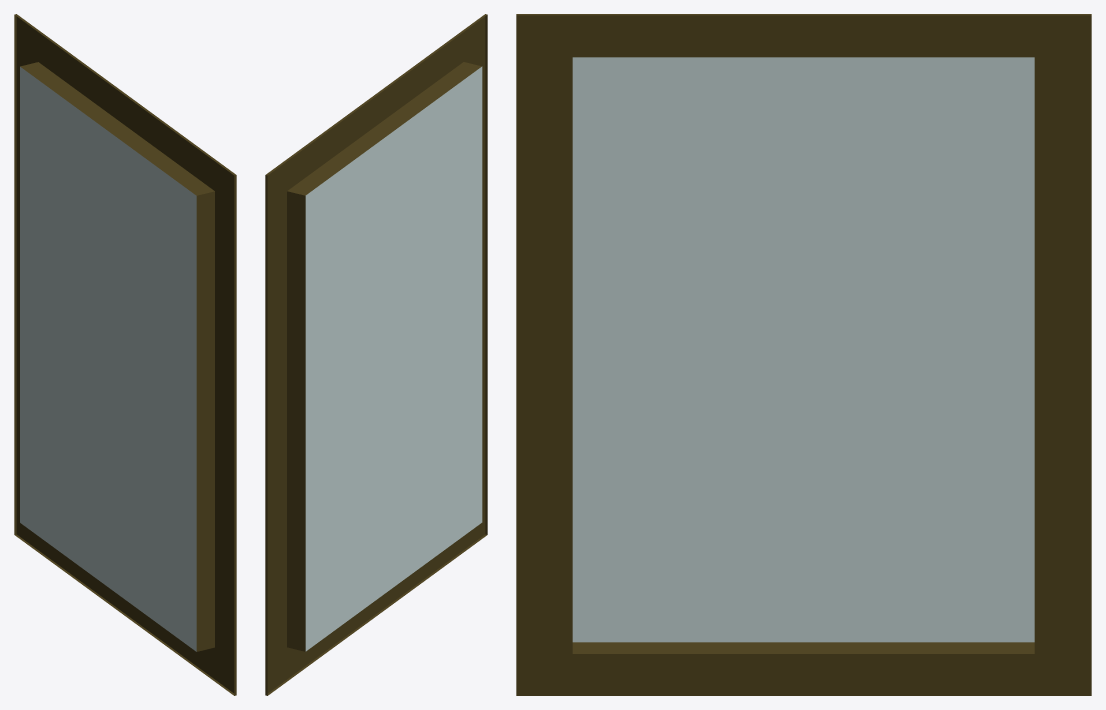
File: GB_Window1.fbx
3 renders of one model, left to right at view 1: azimuth 30°, elevation 25°; view 2: azimuth 150°, elevation 25°; view 3: azimuth 270°, elevation 25°, orthographic. The views are drawn at different scales.
Parts seen in each view (by area): view 1: pasted__polySurface8; view 2: pasted__polySurface8; view 3: pasted__polySurface8.
Part boxes in pixels (x1,y1,x2,y2): pasted__polySurface8: [14, 14, 236, 695]; pasted__polySurface8: [265, 14, 487, 695]; pasted__polySurface8: [516, 14, 1091, 695].
Size of the model in its own units: 0.0622 by 1.68 by 1.29.
